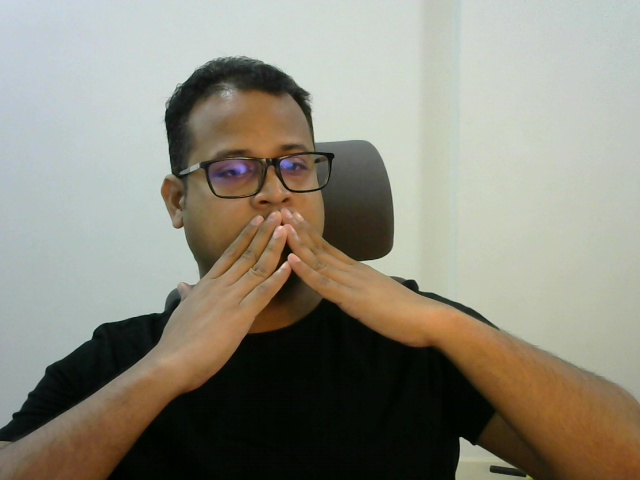ThankYou: (156, 208, 440, 392)
